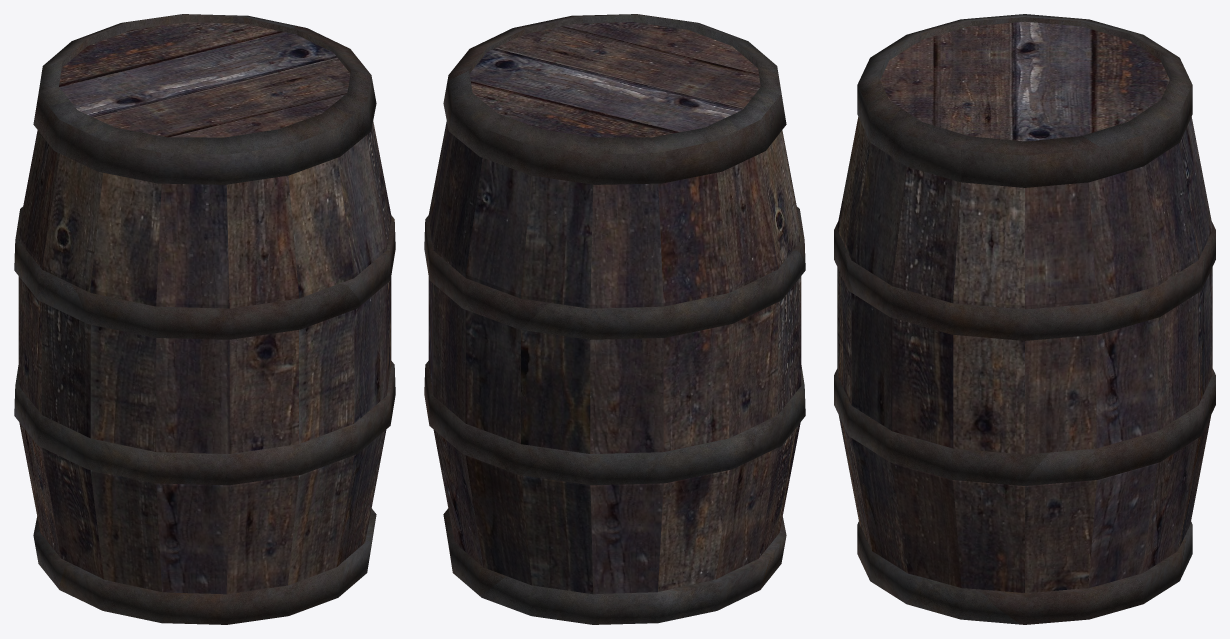
The model's file is barril1.glb.
The picture shows the model from 3 angles, left to right: view 1: azimuth 30°, elevation 25°; view 2: azimuth 150°, elevation 25°; view 3: azimuth 270°, elevation 25°; orthographic projection.
Visible parts, largest first — view 1: Barrel1_1; view 2: Barrel1_1; view 3: Barrel1_1.
Boxes of the visible parts, <box> form: Barrel1_1: <box>14,14,395,624</box>; Barrel1_1: <box>424,14,805,624</box>; Barrel1_1: <box>834,14,1215,624</box>.
Bounding box in the file's own units: 0.5987 × 0.8215 × 0.5948.
2 materials, 2 textured.
